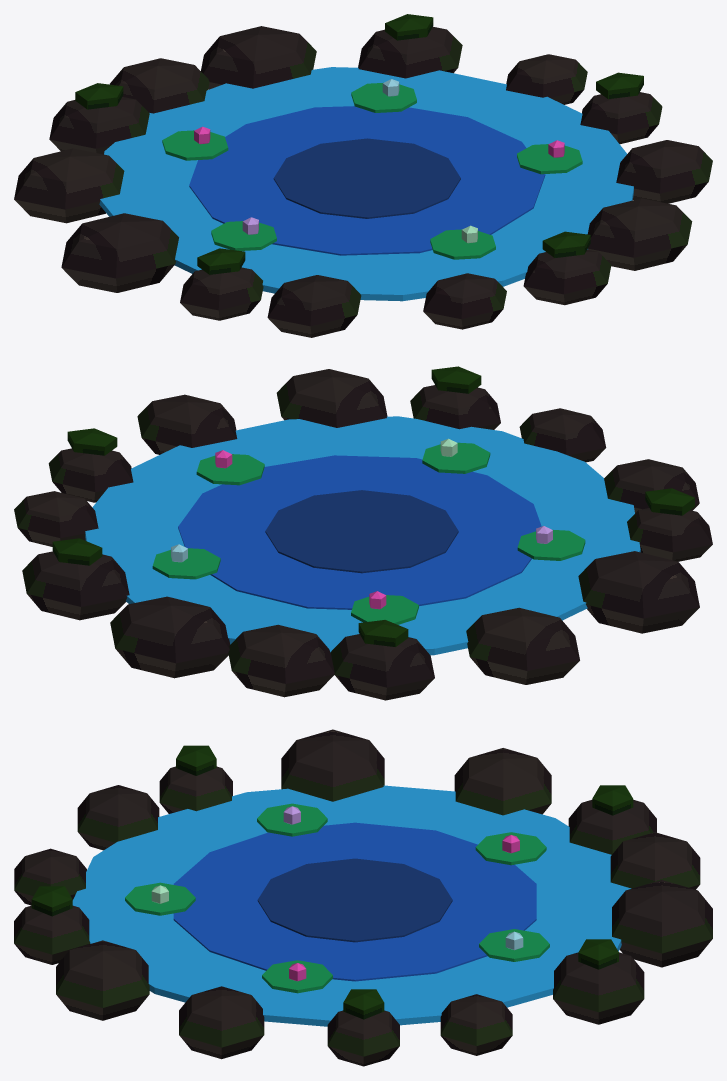
Rendered from glow_pool.glb.
3 renders of one model, top to bottom at view 1: azimuth 30°, elevation 25°; view 2: azimuth 150°, elevation 25°; view 3: azimuth 270°, elevation 25°, orthographic. The views are drawn at different scales.
Parts seen in each view (by area): view 1: glow_pool; view 2: glow_pool; view 3: glow_pool.
Boxes of the visible parts, x1=… form: glow_pool: x1=14, y1=14, x2=712, y2=337; glow_pool: x1=14, y1=366, x2=712, y2=700; glow_pool: x1=14, y1=729, x2=712, y2=1066.
Size of the model in its own units: 4.18 by 0.4581 by 3.95.
Materials: 3 (2 with a texture image).
